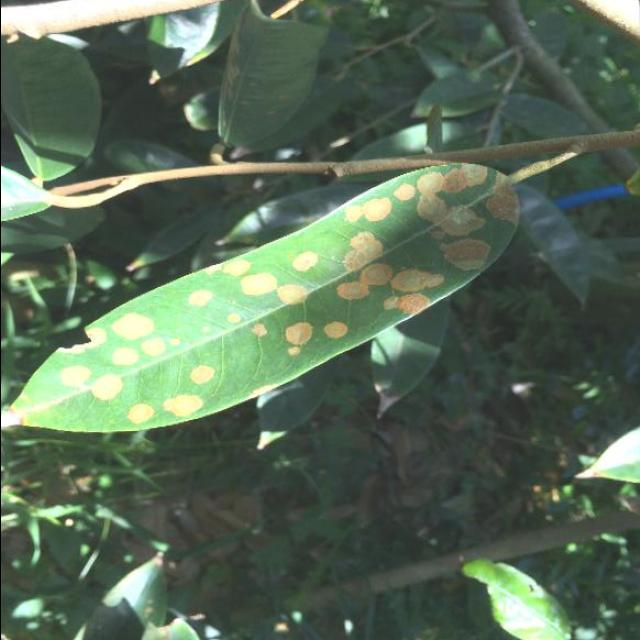Algal Leaf Spot: (1, 148, 536, 446)
